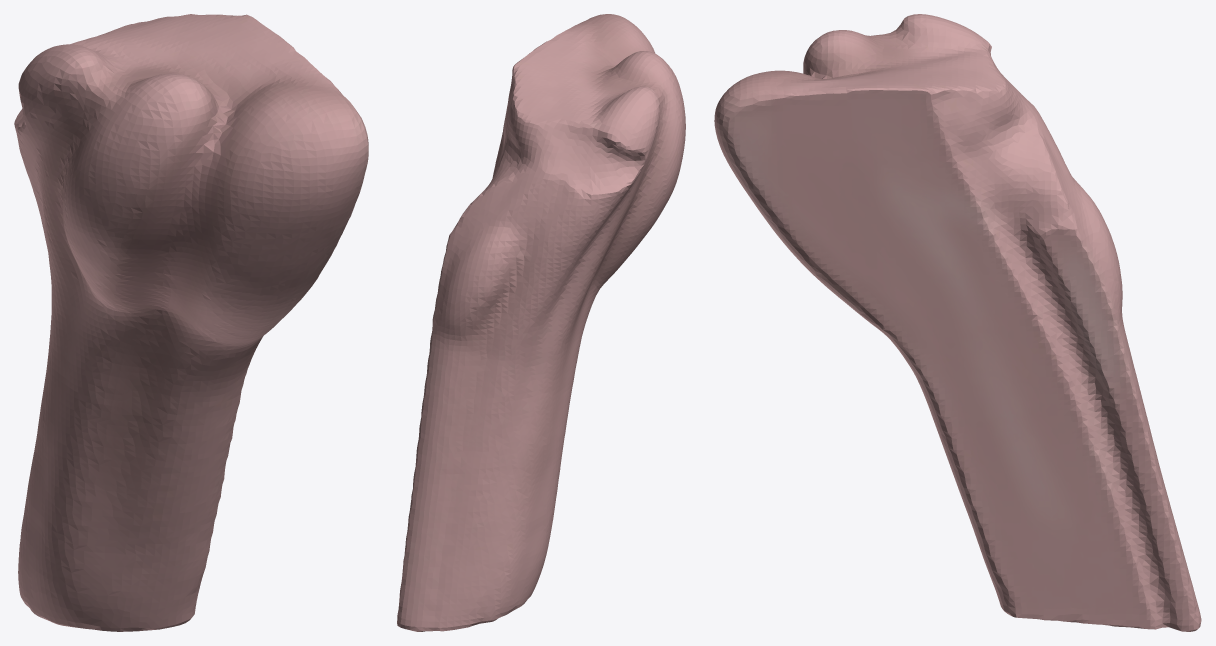
Rendered from Brain_stem55.obj.
The picture shows the model from 3 angles, left to right: view 1: azimuth 30°, elevation 25°; view 2: azimuth 150°, elevation 25°; view 3: azimuth 270°, elevation 25°; orthographic projection. The views are drawn at different scales.
Parts seen in each view (by area): view 1: obj0; view 2: obj0; view 3: obj0.
Boxes of the visible parts, x1,y1,x2,y2 form: obj0: [14, 14, 368, 631]; obj0: [397, 14, 685, 631]; obj0: [714, 14, 1201, 631].
Size of the model in its own units: 13.74 by 42.33 by 34.05.
Materials: 1 (1 with a texture image).
